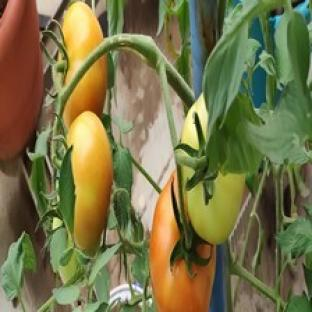Tomato: (151, 176, 215, 311), (67, 112, 112, 253), (184, 173, 245, 245), (63, 2, 103, 84), (59, 251, 79, 284)
